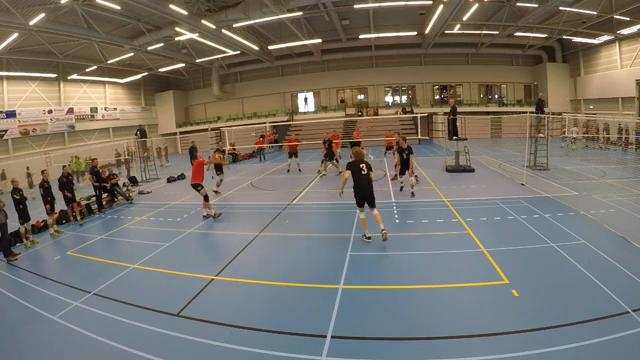Player: (340, 147, 387, 241), (396, 136, 414, 197), (207, 142, 225, 194), (321, 134, 341, 175), (287, 134, 301, 172), (330, 130, 340, 162), (384, 131, 393, 156), (350, 129, 361, 148), (391, 152, 398, 180)
Receive: (183, 150, 231, 225)
ball: (212, 154, 227, 163)
